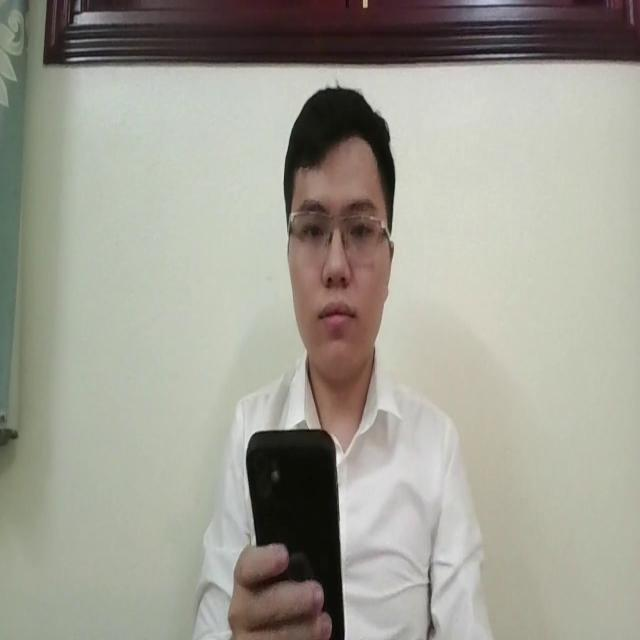phone: (247, 424, 346, 640)
student: (200, 90, 487, 640)
